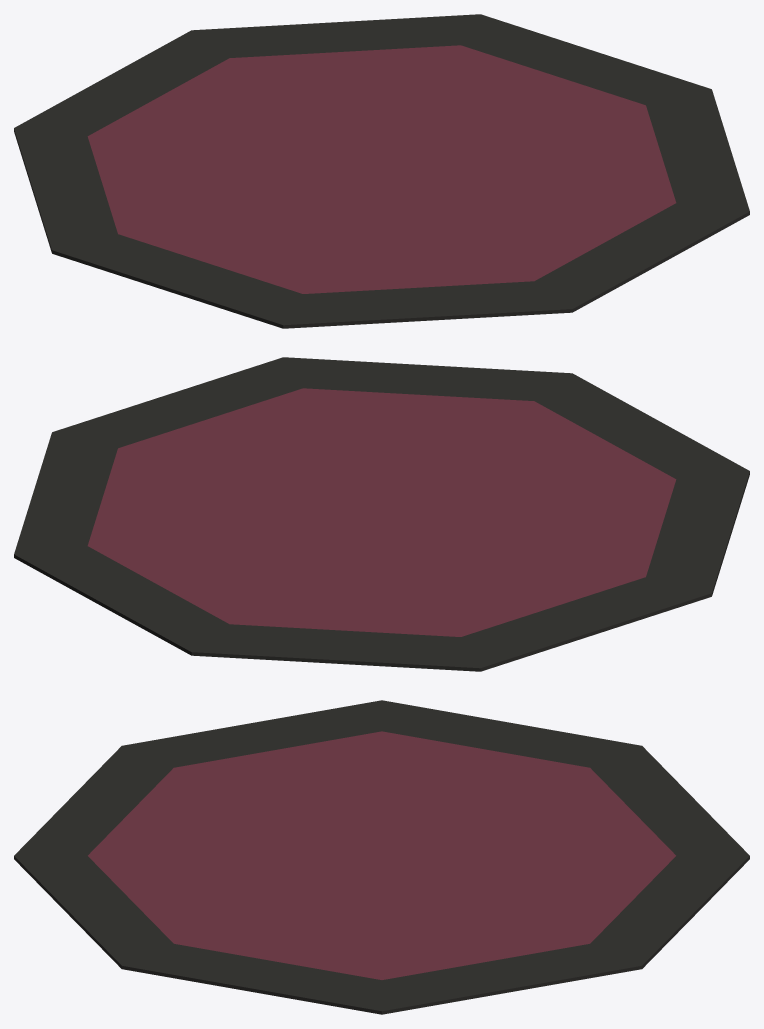
Rendered from Rug.fbx.
3 views of the same model, one above another, from view 1: azimuth 30°, elevation 25°; view 2: azimuth 150°, elevation 25°; view 3: azimuth 270°, elevation 25° (orthographic). The views are drawn at different scales.
Visible parts, largest first — view 1: Rug; view 2: Rug; view 3: Rug.
Boxes of the visible parts, left/top/right/bottom form: Rug: left=14, top=14, right=749, bottom=328; Rug: left=14, top=357, right=749, bottom=671; Rug: left=14, top=700, right=749, bottom=1014.
Size of the model in its own units: 10000 by 51.39 by 10000.
